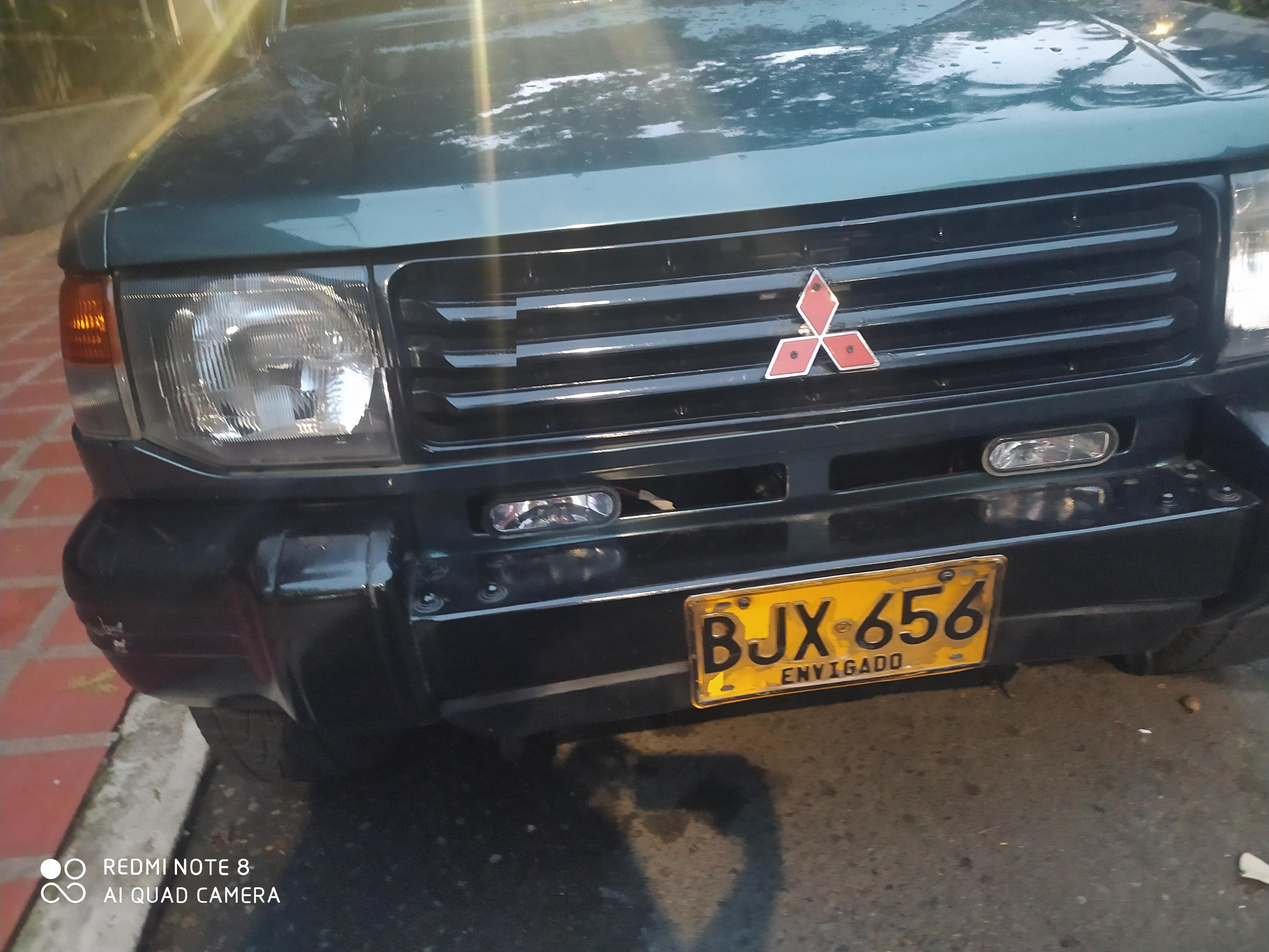placa: (669, 562, 1009, 718)
